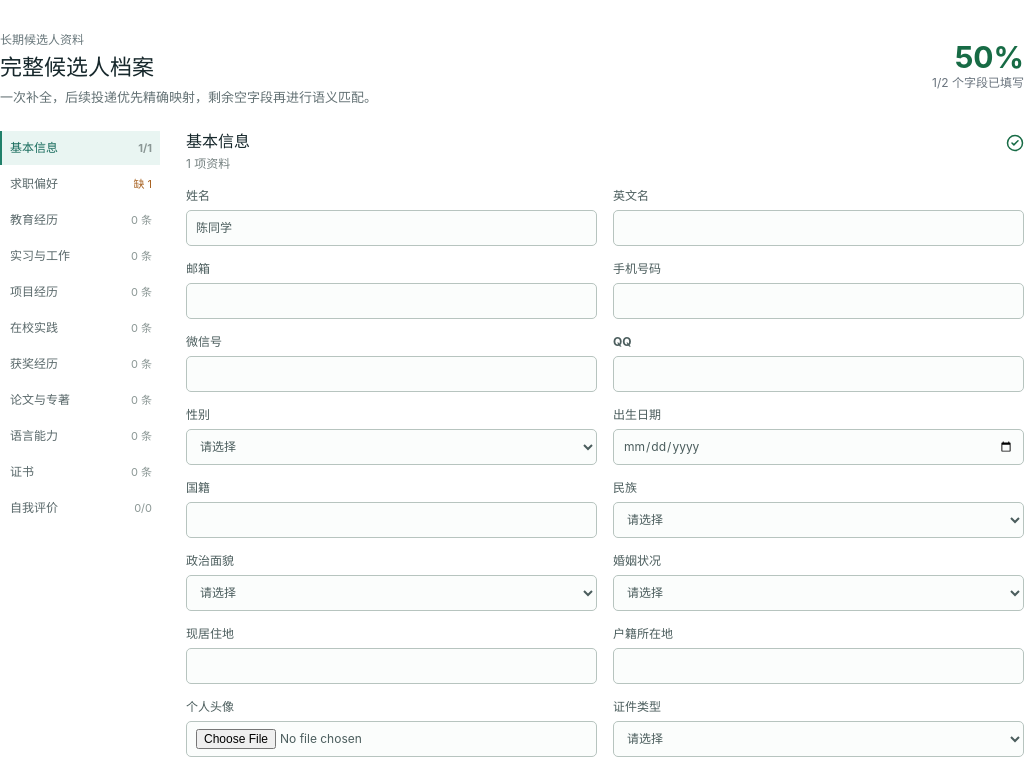
CandidateProfileCenter › shows a missing preference where it can be added to the long form
Click the button "求职偏好 缺 1": click(80, 184) [0,167,160,201]
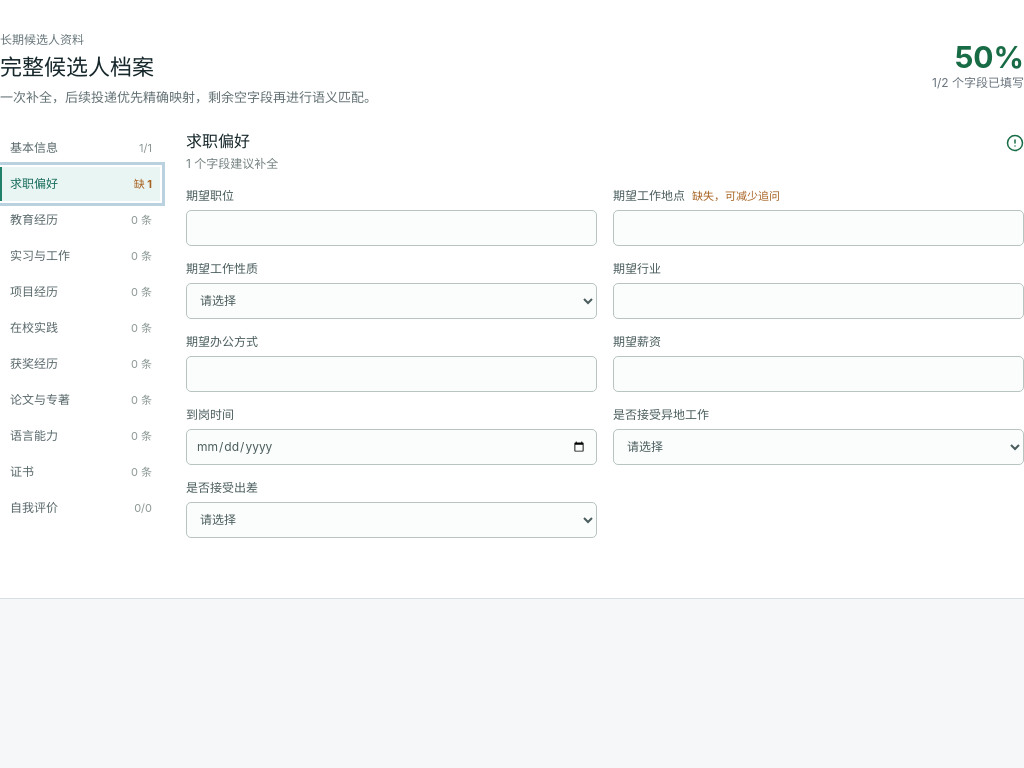
Check: the field labelled "期望工作地点" is empty, box [613,210,1023,246]
Check: the text "缺失，可减少追问" is shown, box [692,188,780,204]
